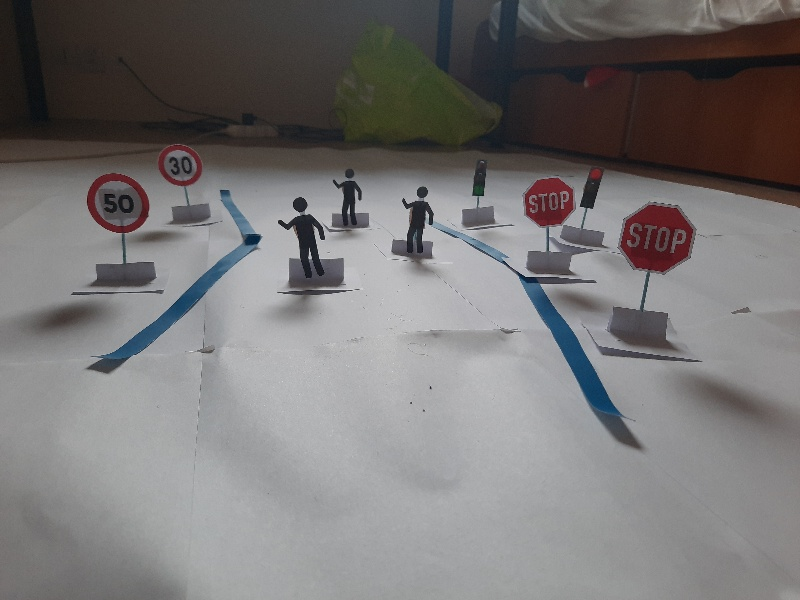Green: (469, 157, 490, 199)
Limit 30: (155, 141, 206, 190)
Limit 50: (84, 171, 154, 234)
Person: (272, 196, 329, 283), (398, 185, 437, 261), (329, 169, 366, 229)
Red: (580, 167, 602, 212)
Stop: (617, 201, 698, 276), (518, 174, 575, 224)
